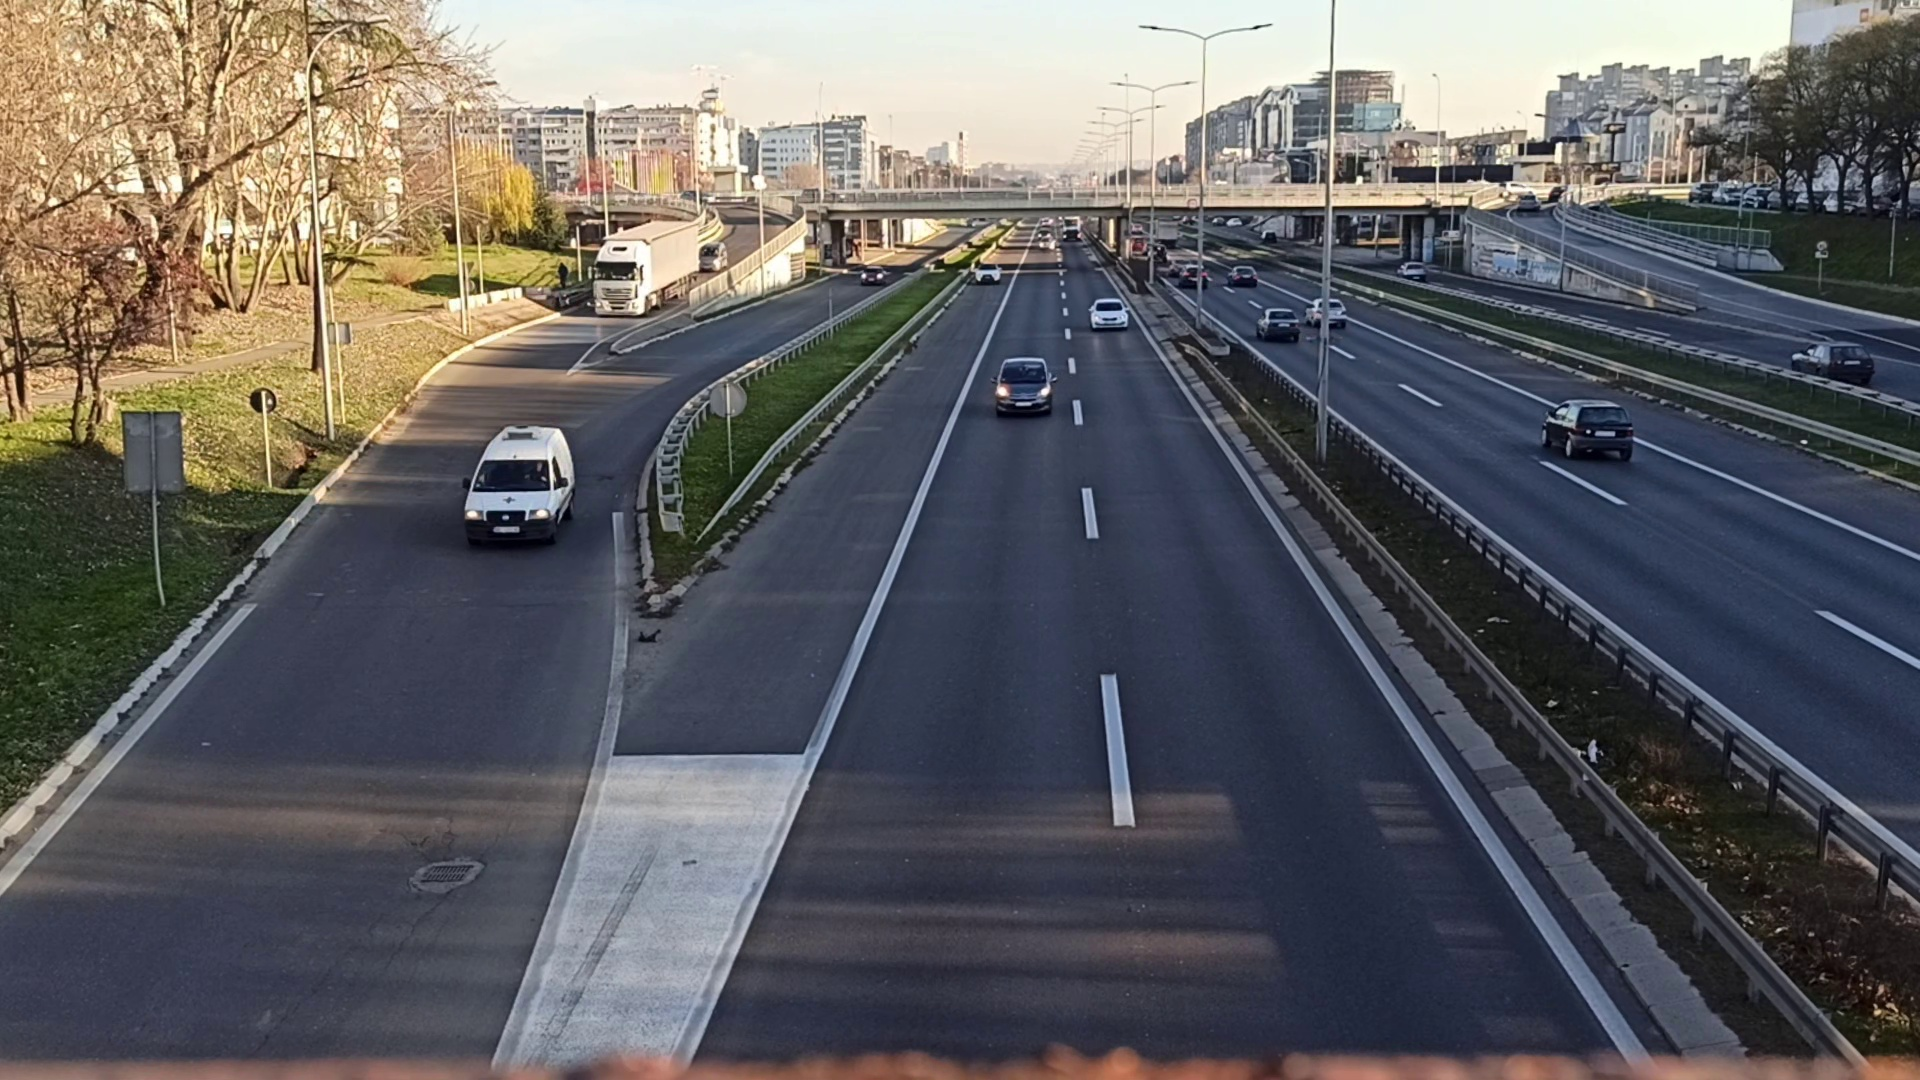car: (462, 421, 578, 546), (1538, 396, 1635, 462), (996, 359, 1058, 417), (1254, 306, 1300, 343), (1087, 295, 1130, 332)
truck: (596, 222, 698, 311)
